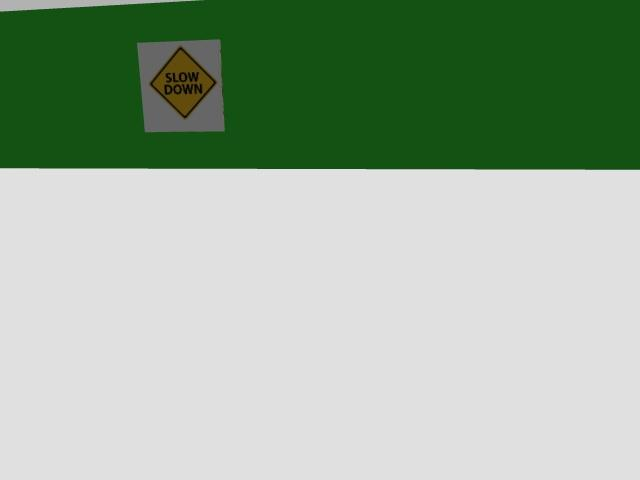slowsign: (137, 40, 224, 131)
